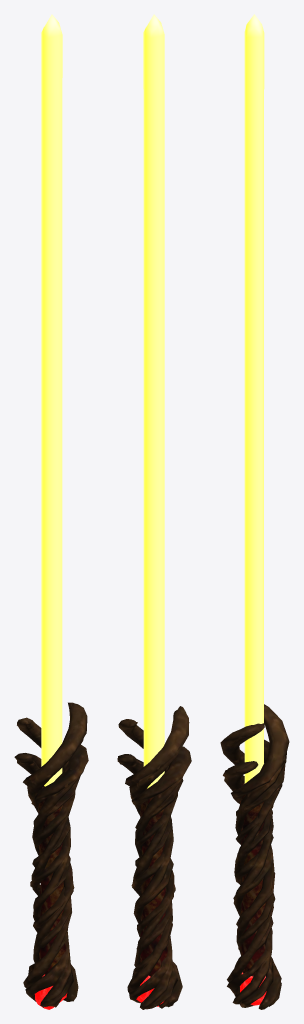
File: lightsaber.glb
3 renders of one model, left to right at view 1: azimuth 30°, elevation 25°; view 2: azimuth 210°, elevation 25°; view 3: azimuth 270°, elevation 25°, orthographic.
Parts seen in each view (by area): view 1: Merged_Low; view 2: Merged_Low; view 3: Merged_Low.
Boxes of the visible parts, x1=… form: Merged_Low: x1=14, y1=14, x2=88, y2=1009; Merged_Low: x1=117, y1=14, x2=191, y2=1009; Merged_Low: x1=220, y1=14, x2=289, y2=1009.
Bounding box in the file's own units: 23.93 × 366 × 23.03.
Materials: 4 (3 with a texture image).
